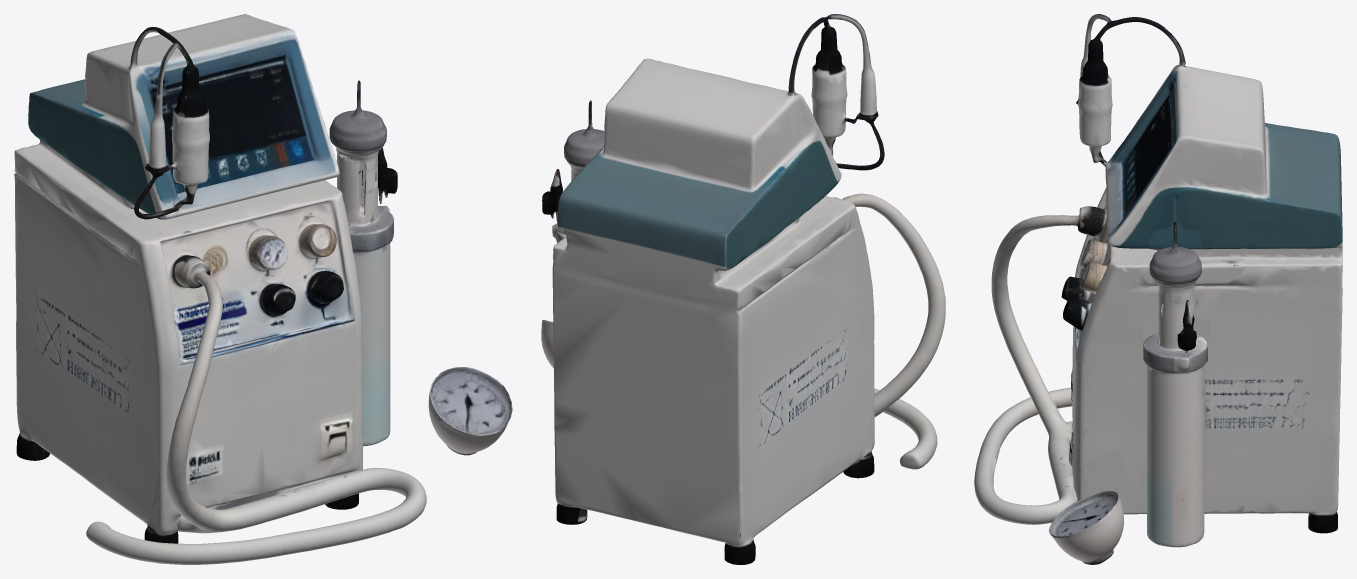
Rendered from vet_equip_anesthesia_machine.glb.
The picture shows the model from 3 angles, left to right: view 1: azimuth 30°, elevation 25°; view 2: azimuth 150°, elevation 25°; view 3: azimuth 270°, elevation 25°; orthographic projection. The views are drawn at different scales.
Parts seen in each view (by area): view 1: model; view 2: model; view 3: model.
Boxes of the visible parts, left/top/right/bottom form: model: left=14, top=14, right=512, bottom=564; model: left=541, top=14, right=945, bottom=564; model: left=974, top=14, right=1342, bottom=564.
Size of the model in its own units: 1.66 by 1.9 by 1.44.
1 material, 1 textured.
